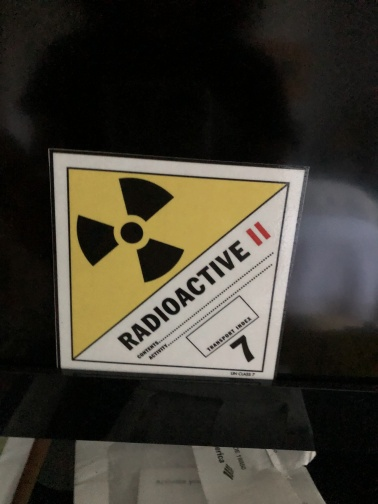Radioactive: (51, 145, 305, 380)
